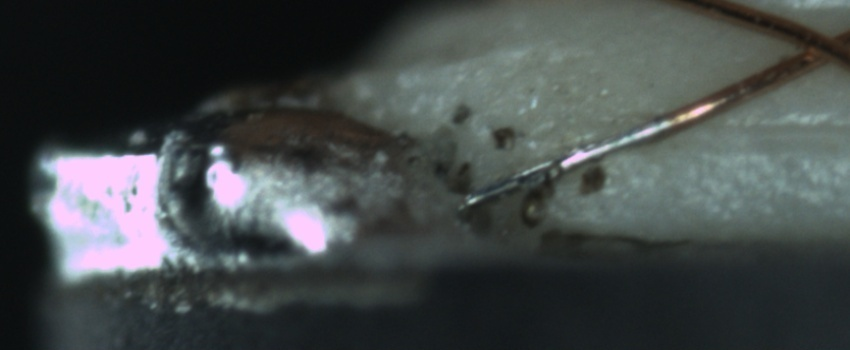CL: (776, 16, 848, 76)
DL: (674, 97, 847, 164)
TS: (448, 113, 671, 213)
